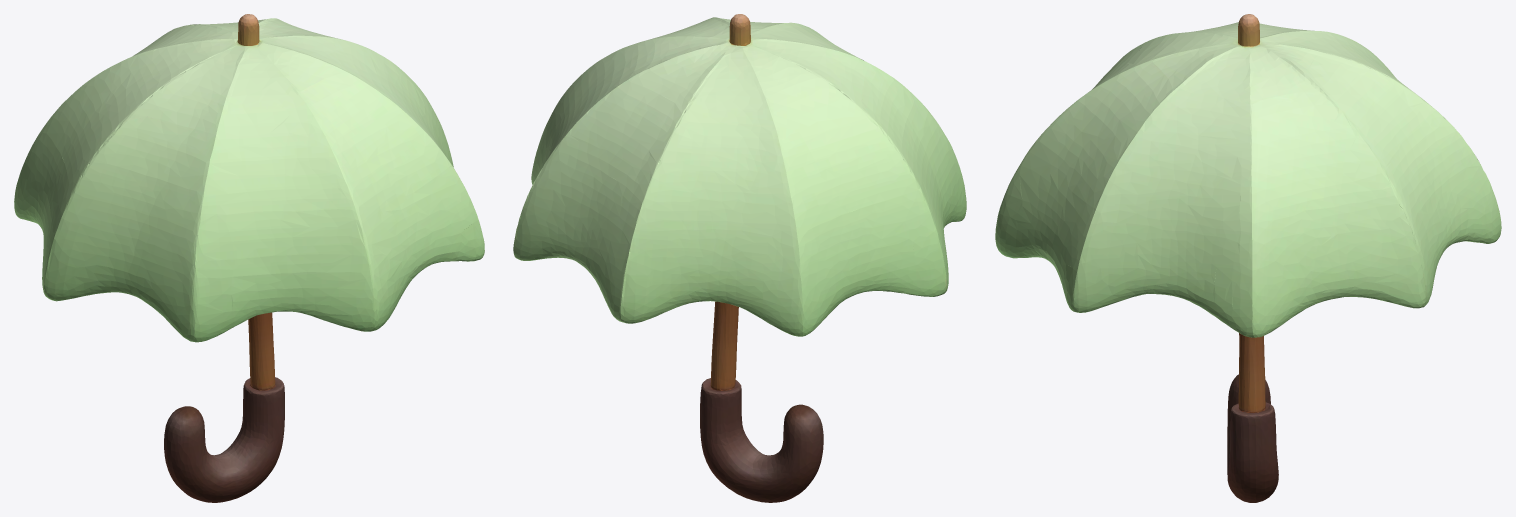
Rendered from umbrella.glb.
3 views of the same model, side by side, from view 1: azimuth 30°, elevation 25°; view 2: azimuth 150°, elevation 25°; view 3: azimuth 270°, elevation 25° (orthographic). The views are drawn at different scales.
Parts seen in each view (by area): view 1: geometry_0; view 2: geometry_0; view 3: geometry_0.
Boxes of the visible parts, box(x1,y1,x2,y2) form: geometry_0: box(14, 14, 484, 502); geometry_0: box(513, 14, 966, 502); geometry_0: box(995, 14, 1501, 502).
Bounding box in the file's own units: 0.8996 × 0.9996 × 0.9318.
1 material, 1 textured.
